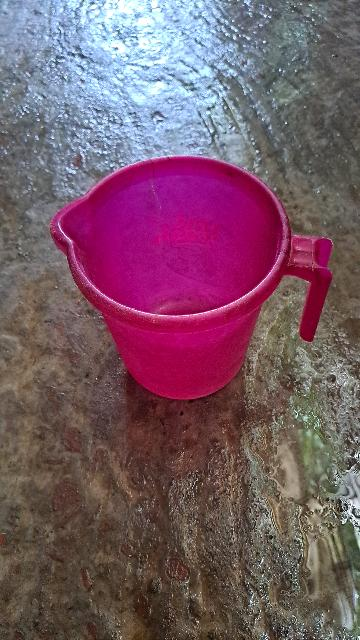hardplastic: (44, 176, 321, 416)
